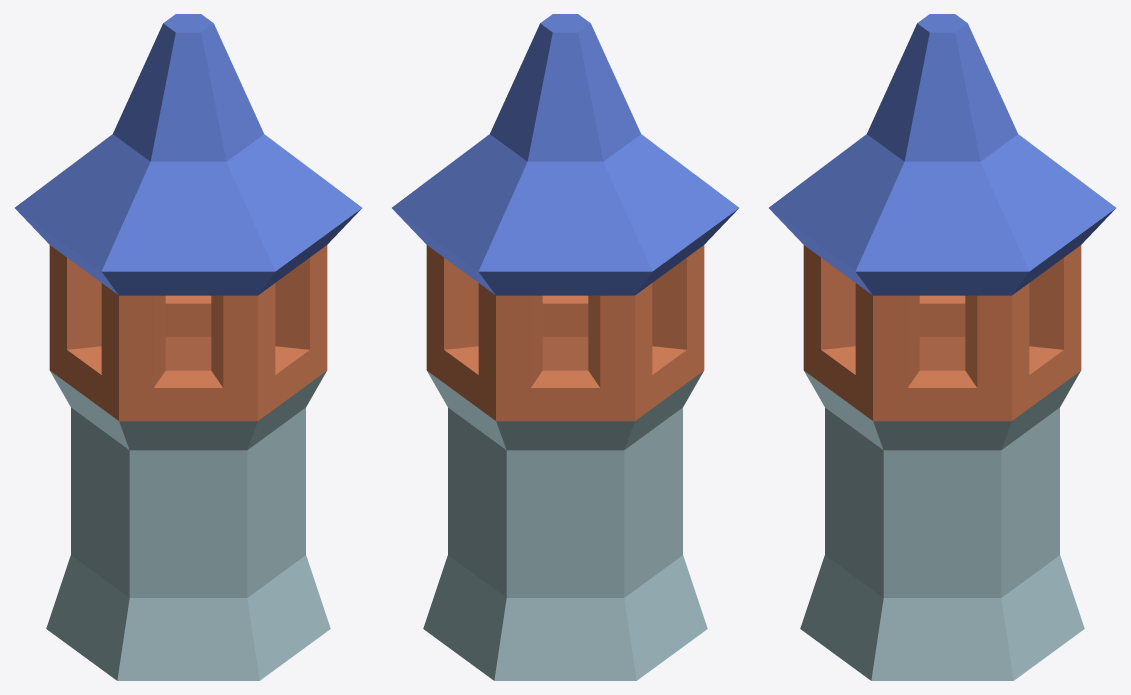
Rendered from unit_tower.dae.
3 views of the same model, side by side, from view 1: azimuth 30°, elevation 25°; view 2: azimuth 150°, elevation 25°; view 3: azimuth 270°, elevation 25° (orthographic).
Parts seen in each view (by area): view 1: unit_tower; view 2: unit_tower; view 3: unit_tower.
Boxes of the visible parts, bbox=[...] form: unit_tower: bbox=[15, 14, 361, 680]; unit_tower: bbox=[392, 14, 738, 680]; unit_tower: bbox=[769, 14, 1115, 680].
Size of the model in its own units: 0.3699 by 0.82 by 0.4272.
